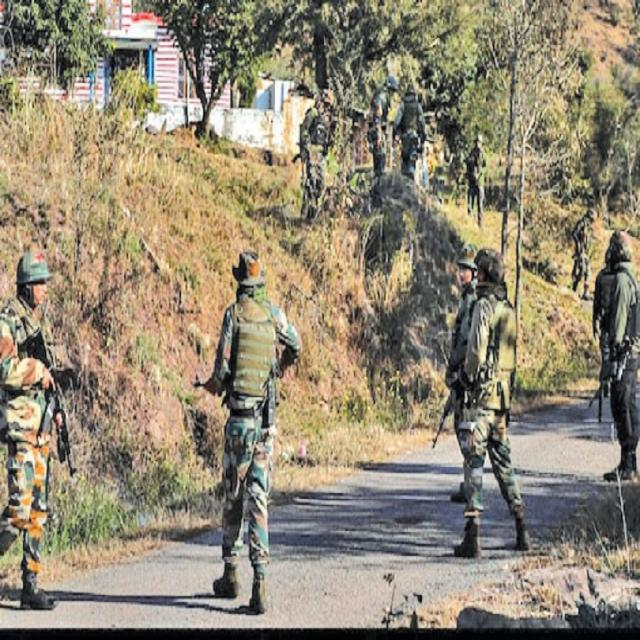Forest: (1, 0, 640, 640)
Militant: (187, 240, 304, 620), (432, 218, 536, 577), (2, 237, 73, 618), (585, 219, 640, 503)
